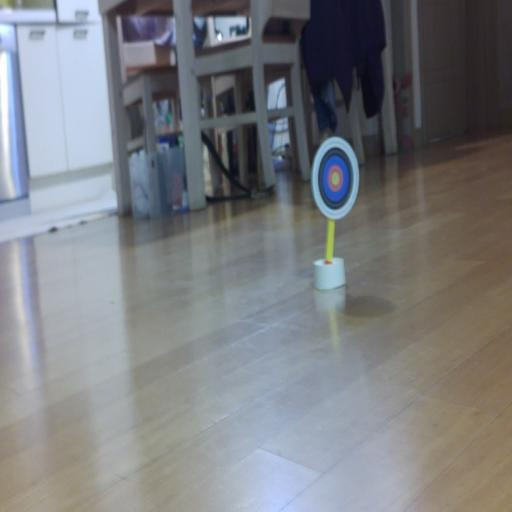target: (311, 137, 359, 220)
